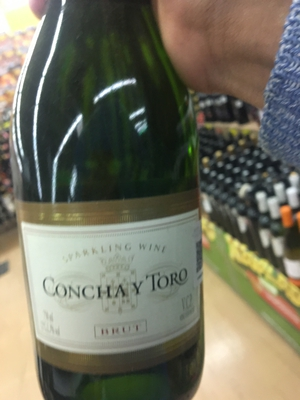brut: (7, 16, 216, 400)
